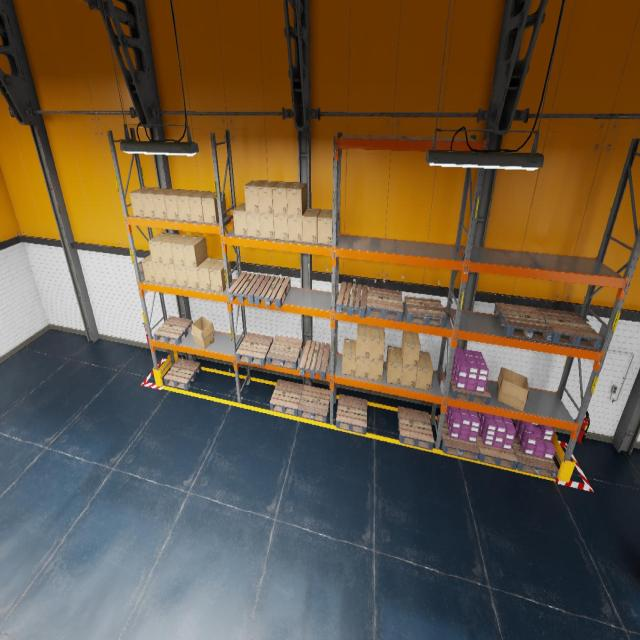box: (497, 367, 529, 411), (201, 192, 227, 224), (182, 236, 208, 267), (191, 316, 214, 349), (209, 259, 232, 292), (129, 187, 155, 216), (152, 188, 177, 218), (148, 232, 172, 263), (188, 191, 212, 222), (164, 189, 188, 220), (177, 190, 200, 221), (171, 234, 193, 266), (141, 188, 165, 217), (160, 233, 182, 264), (286, 182, 306, 216), (197, 258, 218, 290), (258, 181, 279, 213), (244, 180, 265, 212), (402, 331, 421, 366), (302, 208, 321, 243), (416, 351, 433, 390), (386, 346, 403, 384), (272, 182, 292, 214), (401, 349, 417, 388), (342, 338, 356, 376), (356, 324, 371, 358), (370, 325, 384, 361), (318, 209, 332, 245), (233, 203, 247, 236), (142, 254, 156, 282), (273, 214, 288, 240), (288, 215, 302, 242), (246, 212, 261, 237), (260, 213, 274, 239), (369, 359, 383, 381), (355, 356, 369, 378), (174, 265, 188, 287), (163, 264, 177, 285), (152, 262, 166, 283), (186, 266, 199, 288)
pallets: (536, 308, 602, 349), (494, 302, 554, 342), (512, 434, 559, 479), (437, 415, 480, 460), (445, 364, 491, 405), (397, 406, 434, 450), (477, 430, 518, 469), (236, 332, 273, 367), (404, 296, 447, 326), (267, 335, 303, 370), (366, 287, 403, 321), (336, 394, 367, 434), (270, 379, 303, 416), (298, 384, 330, 422), (300, 340, 330, 380), (254, 275, 290, 308), (164, 358, 201, 390), (228, 272, 265, 304), (153, 316, 193, 345), (336, 282, 368, 318)
